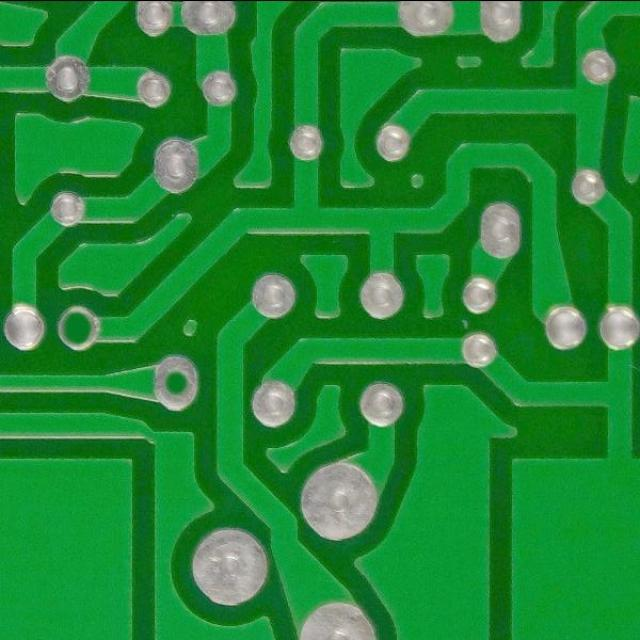Missing_Hole: (147, 350, 208, 417), (49, 302, 107, 355)
